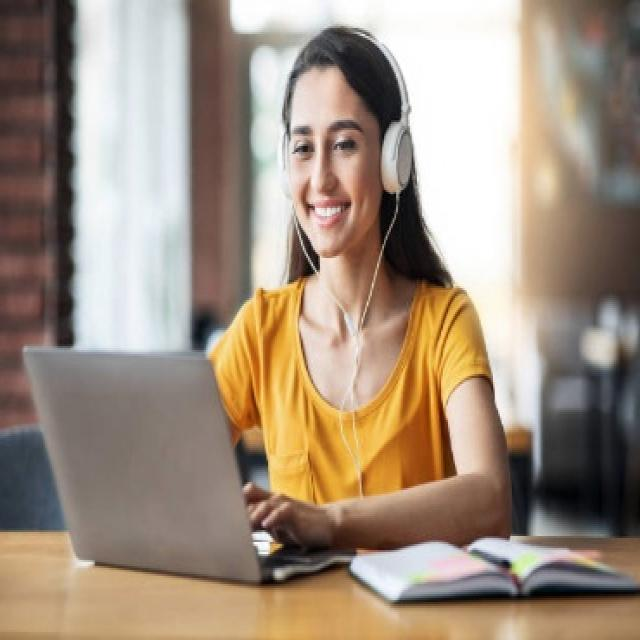adult: (203, 21, 513, 542)
